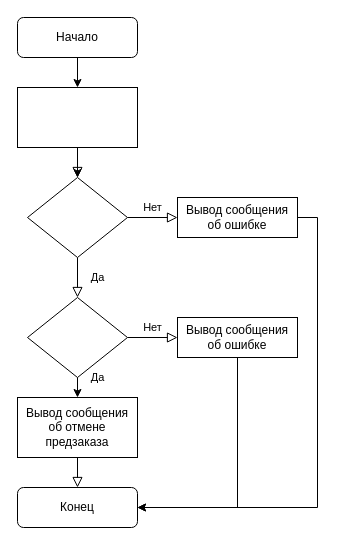
Some shapes in this 343 by 545 pixel diagram are drawn without their labels. The box of each missing label's shape, as (x1, y1, x2, y2) in pixels:
Пользователь нажал кнопку "Отменить бронирование": (16, 86, 138, 148)
Поля заполнены корректно?: (26, 176, 128, 258)
Указанные данные есть в базе?: (26, 296, 128, 378)
